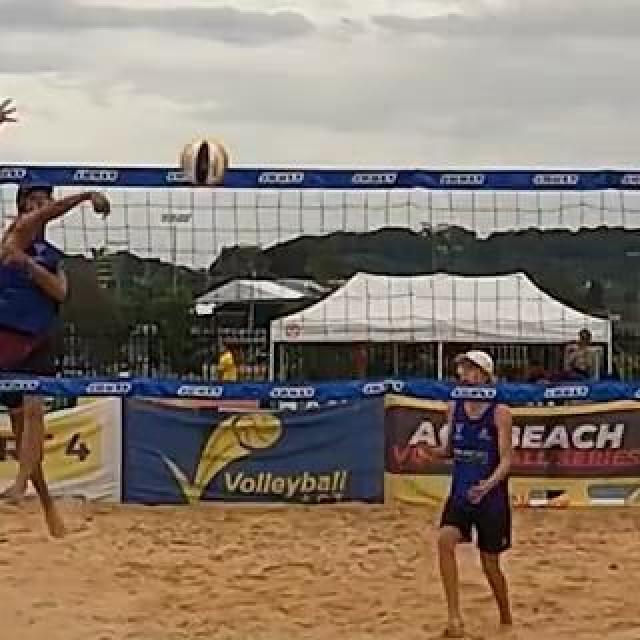volleyball: (180, 140, 226, 186)
